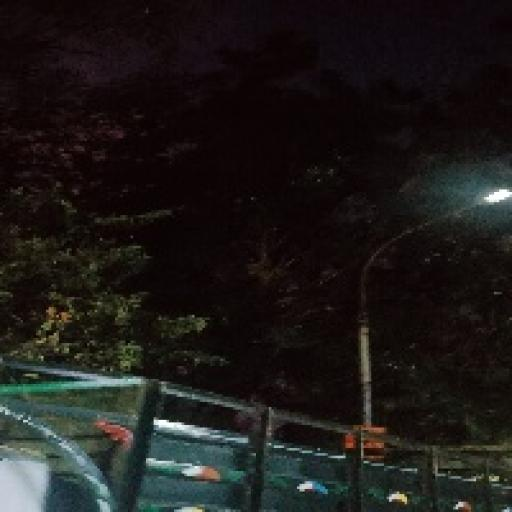Working: (466, 179, 512, 210)
